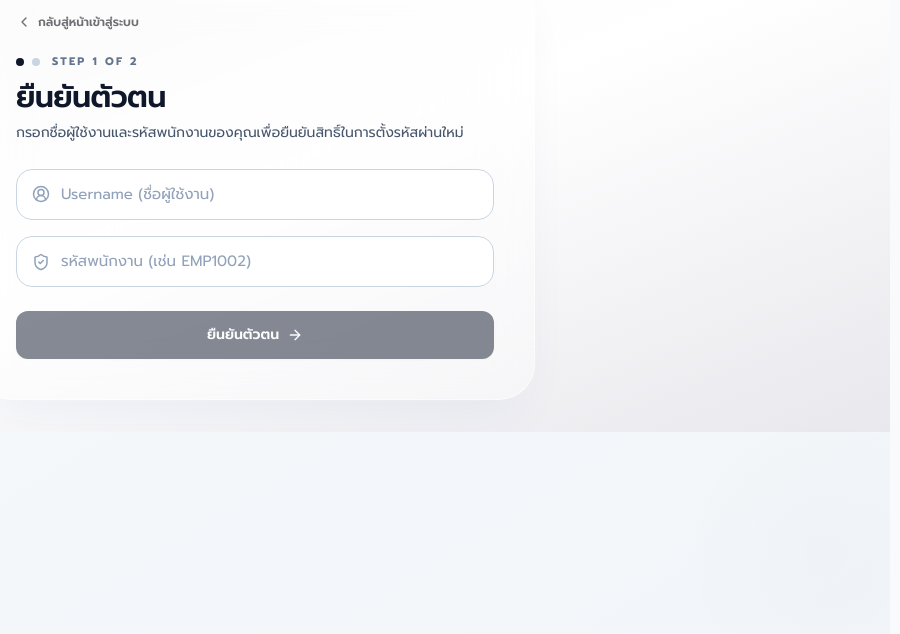
Test: ForgotPassword Component (Streamlined 2-Step Employee ID Flow) › handles same-password error when trying to reuse current password
# Verify Identity
Type "qsms_operator" into the field with placeholder "Username (ชื่อผู้ใช้งาน)" at {"x": 255, "y": 194}, box [16, 168, 494, 220]
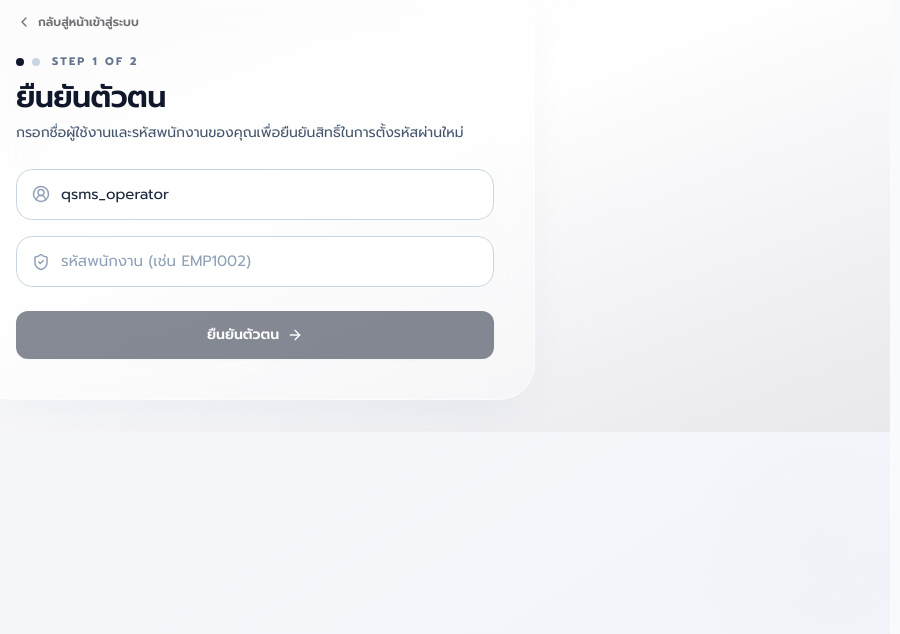
Type "EMP1002" into the field with placeholder "รหัสพนักงาน (เช่น EMP1002)" at {"x": 255, "y": 262}, box [16, 236, 494, 287]
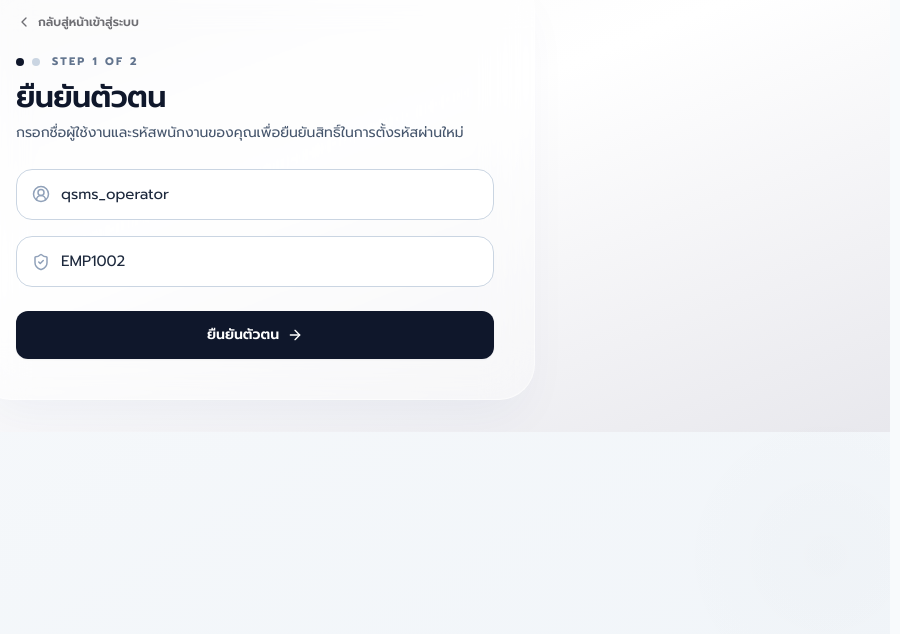
Click the button "ยืนยันตัวตน" at {"x": 255, "y": 335}, box [16, 311, 494, 359]
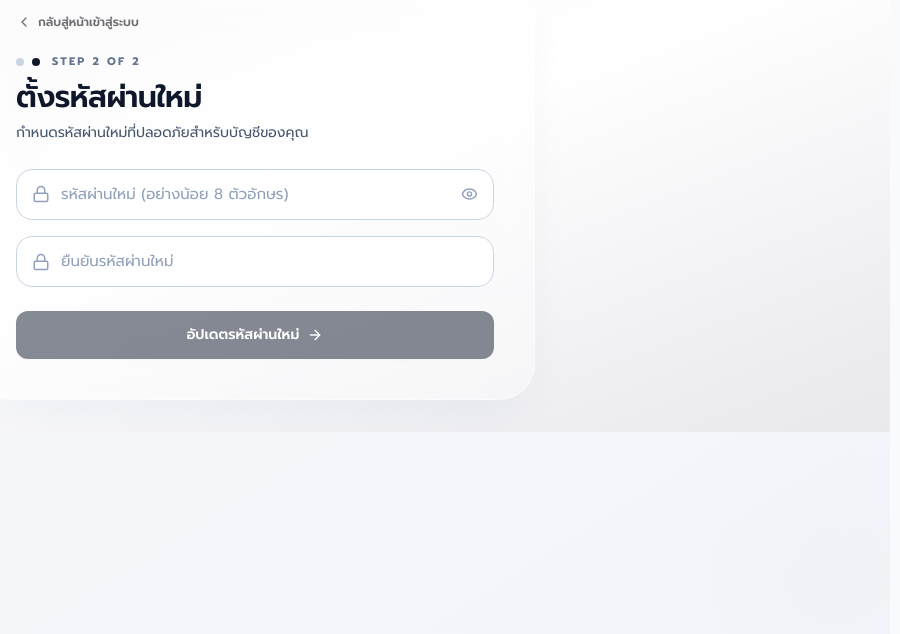
Now the heading "ตั้งรหัสผ่านใหม่" is shown, box [16, 74, 202, 120]
Type "OldPassword123!" into the password field with placeholder "รหัสผ่านใหม่ (อย่างน้อย 8 ตัวอักษร)" at {"x": 255, "y": 194}, box [16, 168, 494, 220]
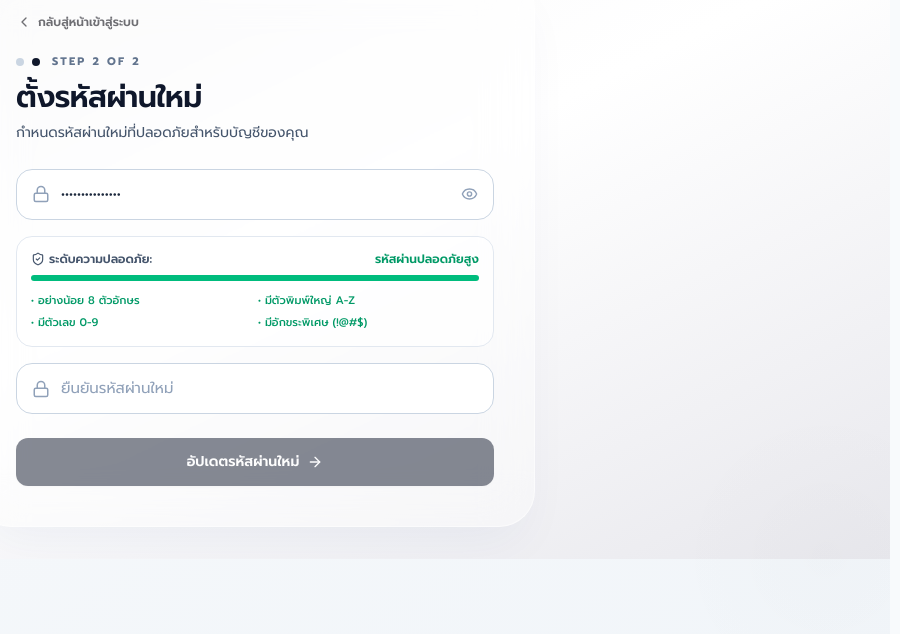
Type "OldPassword123!" into the password field with placeholder "ยืนยันรหัสผ่านใหม่" at {"x": 255, "y": 389}, box [16, 363, 494, 414]
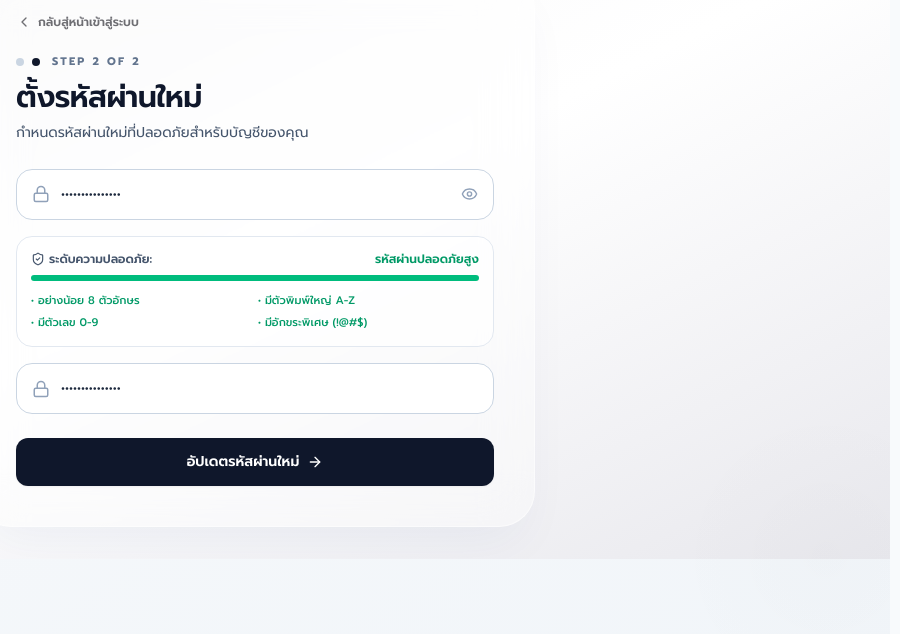
Click the button "อัปเดตรหัสผ่านใหม่" at {"x": 255, "y": 462}, box [16, 438, 494, 486]
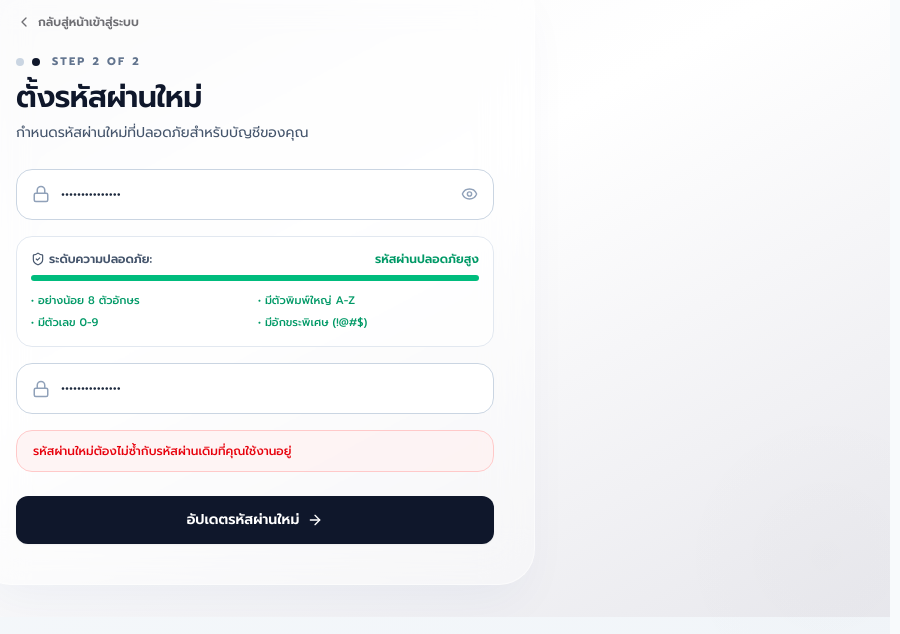
Now the text "รหัสผ่านใหม่ต้องไม่ซ้ำกับรหัสผ่านเดิมที่คุณใช้งานอยู่" is shown, box [16, 430, 494, 472]
